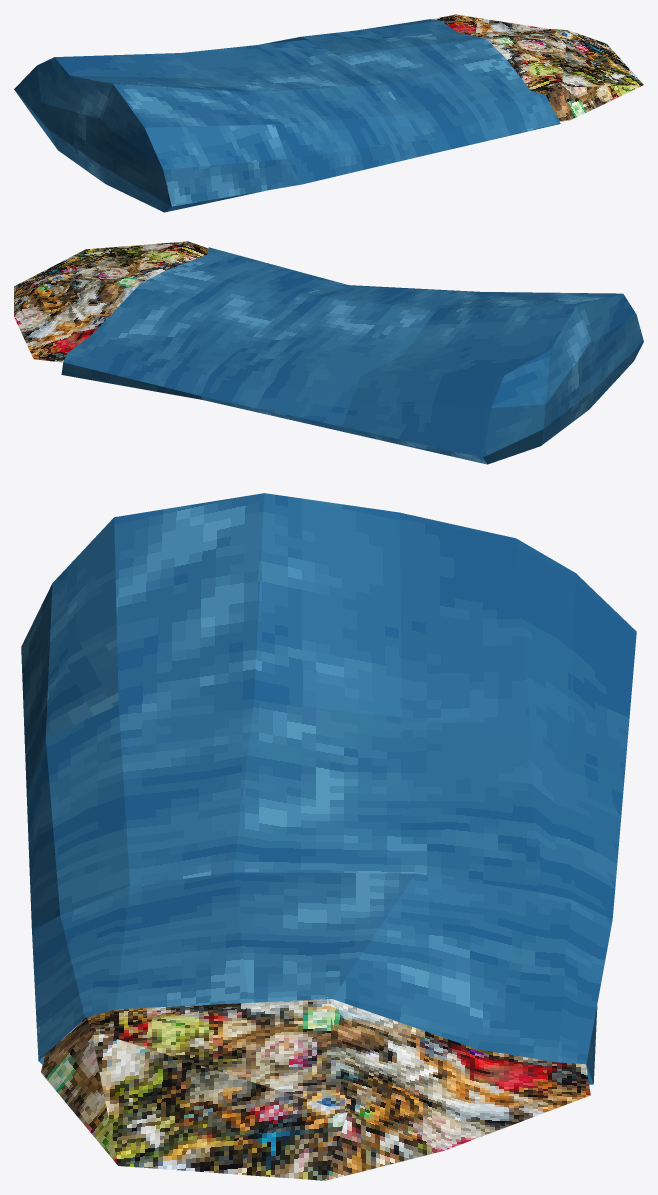
Rendered from trashbag_3_blue.glb.
3 views of the same model, one above another, from view 1: azimuth 30°, elevation 25°; view 2: azimuth 150°, elevation 25°; view 3: azimuth 270°, elevation 25° (orthographic). The views are drawn at different scales.
Parts seen in each view (by area): view 1: trashbag_3_blue; view 2: trashbag_3_blue; view 3: trashbag_3_blue.
Part boxes in pixels (left/top/right/bottom): trashbag_3_blue: left=14, top=14, right=643, bottom=212; trashbag_3_blue: left=14, top=241, right=643, bottom=464; trashbag_3_blue: left=21, top=493, right=636, bottom=1180.
Size of the model in its own units: 1.73 by 0.3175 by 0.8694.
Materials: 2 (2 with a texture image).
